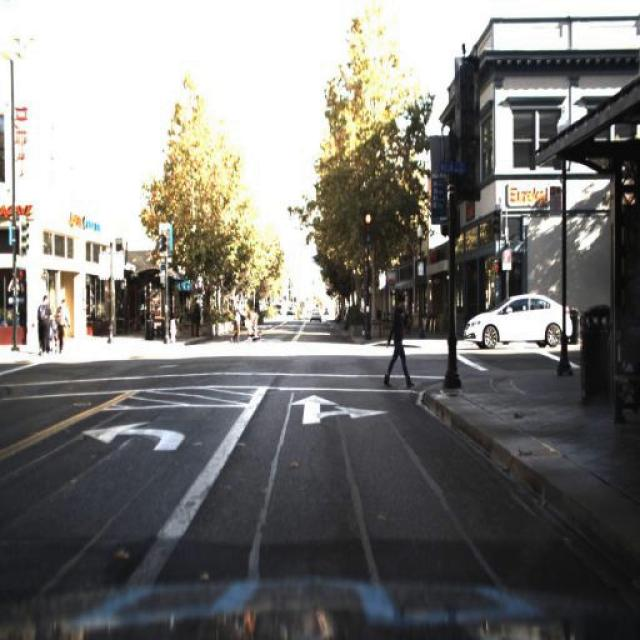semaforo: (362, 211, 373, 245)
